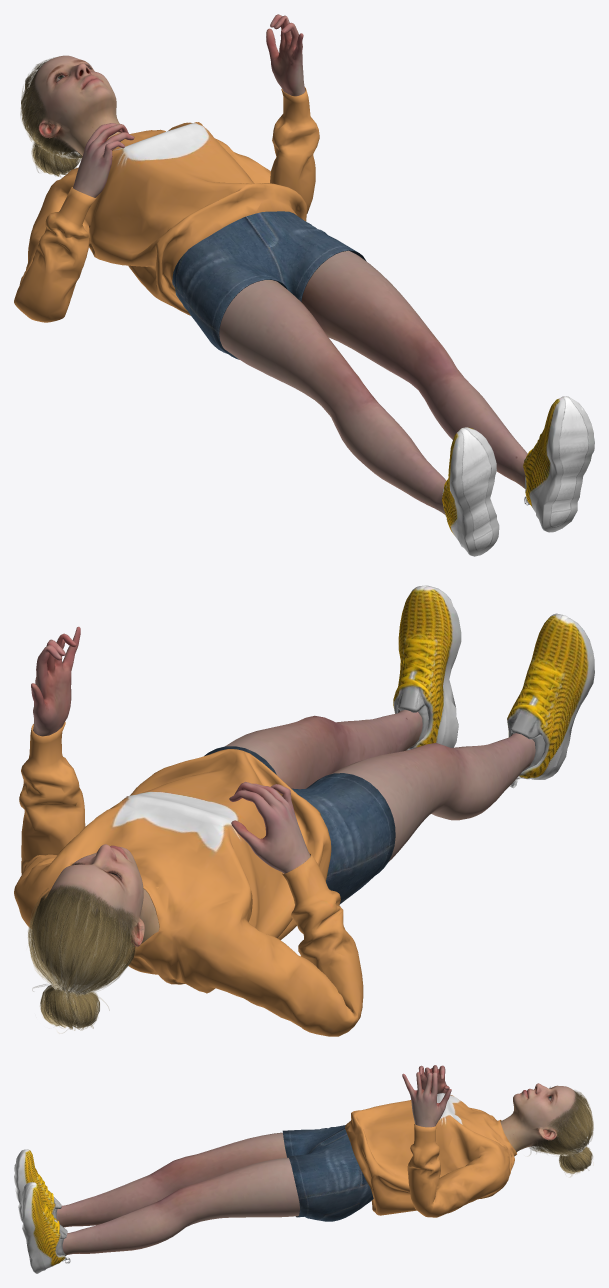
The model's file is muchacha-cuerpo-v1.glb.
3 views of the same model, one above another, from view 1: azimuth 30°, elevation 25°; view 2: azimuth 150°, elevation 25°; view 3: azimuth 270°, elevation 25° (orthographic). The views are drawn at different scales.
Visible parts, largest first — view 1: Ch02_Cloth.001, Ch02_Body.001, Ch02_Sneakers.001, Ch02_Hair.001; view 2: Ch02_Cloth.001, Ch02_Body.001, Ch02_Sneakers.001, Ch02_Hair.001; view 3: Ch02_Body.001, Ch02_Cloth.001, Ch02_Sneakers.001, Ch02_Hair.001.
Part boxes in pixels (bbox=[...]): Ch02_Cloth.001: bbox=[14, 87, 366, 359]; Ch02_Body.001: bbox=[27, 14, 527, 514]; Ch02_Sneakers.001: bbox=[442, 396, 594, 556]; Ch02_Hair.001: bbox=[20, 57, 82, 176]; Ch02_Cloth.001: bbox=[14, 721, 395, 1036]; Ch02_Body.001: bbox=[31, 626, 535, 984]; Ch02_Sneakers.001: bbox=[393, 585, 594, 788]; Ch02_Hair.001: bbox=[28, 885, 143, 1033]; Ch02_Body.001: bbox=[56, 1065, 586, 1254]; Ch02_Cloth.001: bbox=[282, 1093, 516, 1221]; Ch02_Sneakers.001: bbox=[14, 1149, 70, 1273]; Ch02_Hair.001: bbox=[529, 1090, 593, 1176].
Size of the model in its own units: 4.43 by 4.47 by 11.41.
Materials: 2 (2 with a texture image).
